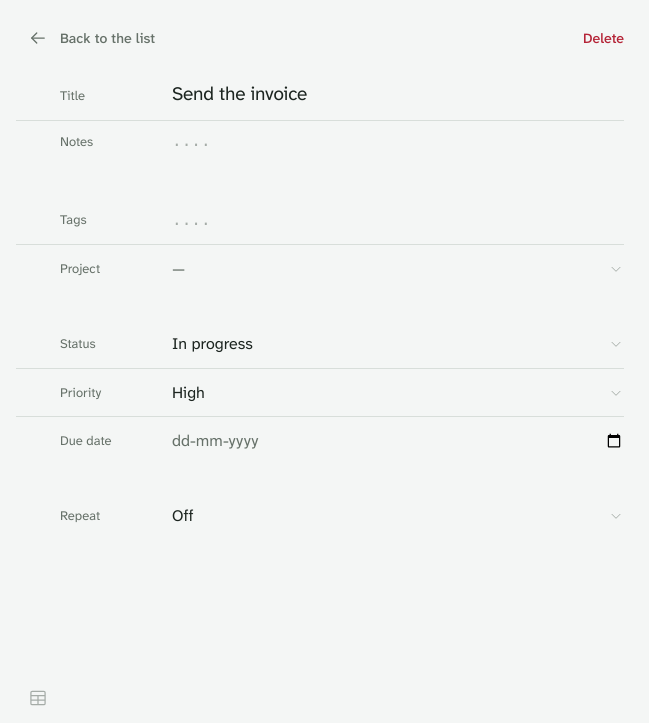
Test: TaskDetailScreen › swaps Delete for Save at the head while there is an unsaved edit
Check: the button "Save" is not shown
Type " now" into the dropdown labelled "Title" at (398, 94), box [172,80,624,108]
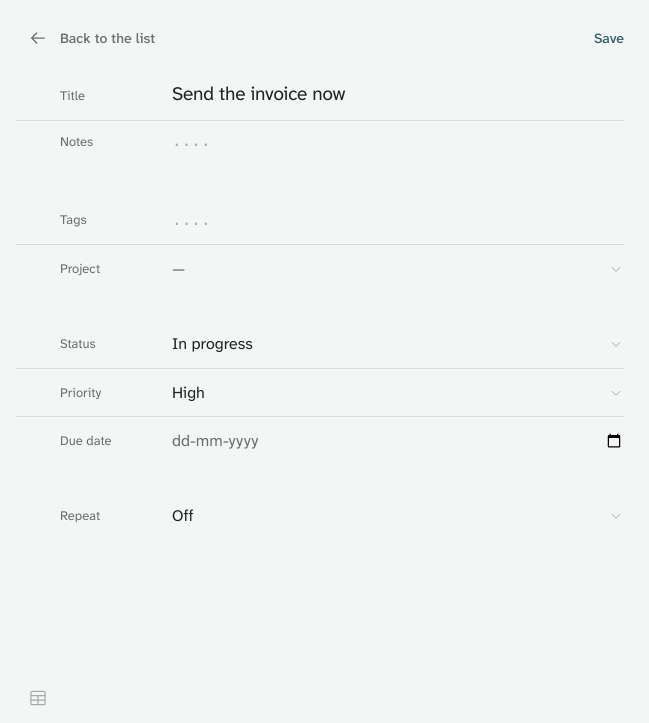
Check: the button "Delete" is gone
Click the button "Save" at (604, 38), box [576,16,632,60]
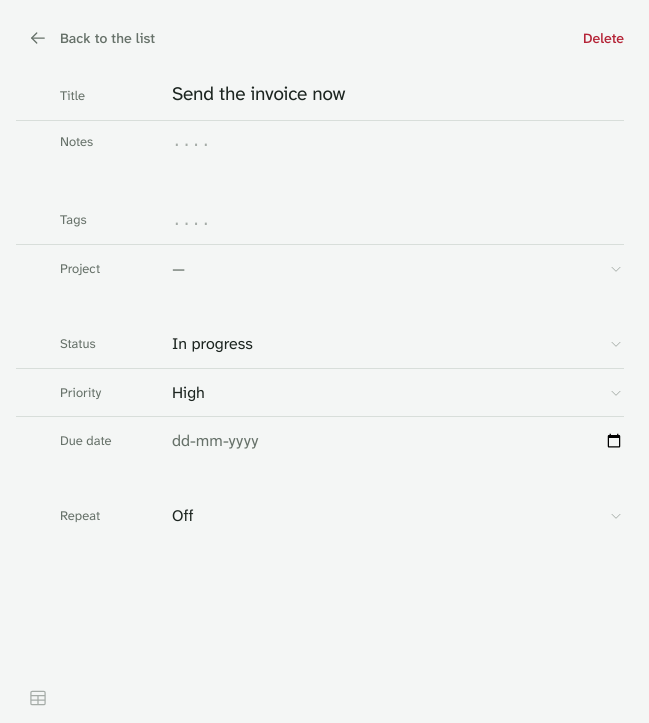
Check: the button "Delete" is shown, box [575,16,632,60]
Check: the button "Save" is gone
